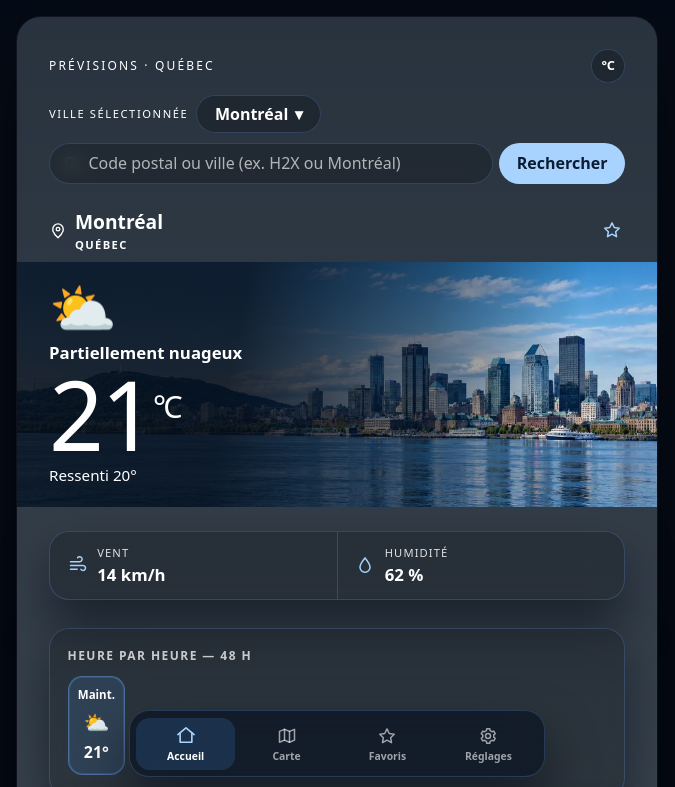
App — unités › bascule vers l’impérial et convertit l’affichage
The image size is (675, 787).
Check: the text "Partiellement nuageux" is shown, box [49,341,242,364]
Step 1. Click the button named "Unités impériales" → point(608, 66), box [591,49,625,83]
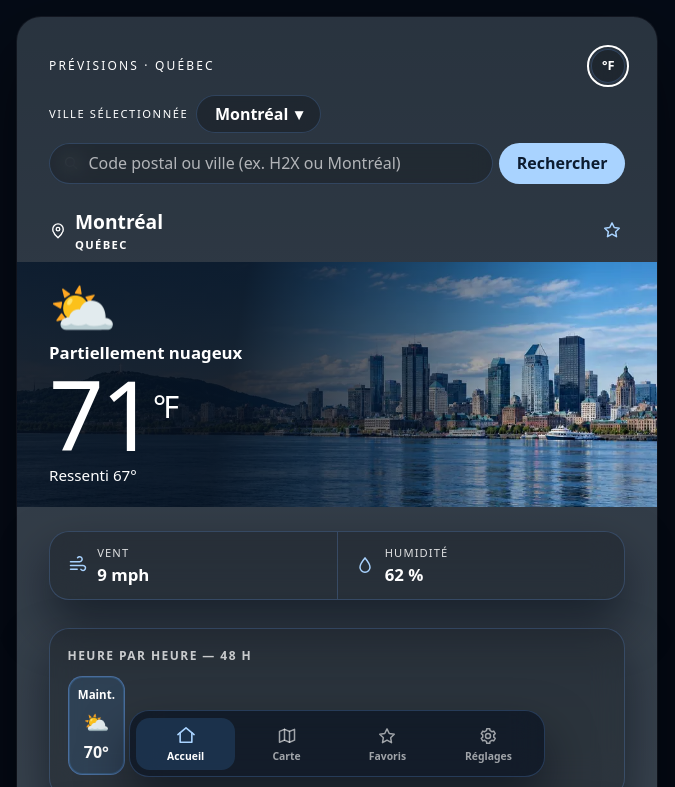
Check: the button named "Unités impériales" reads "°F", box [591,49,625,83]
Check: the text "71" is shown, box [49,348,153,479]
Check: the text "9 mph" is shown, box [97,563,149,586]
